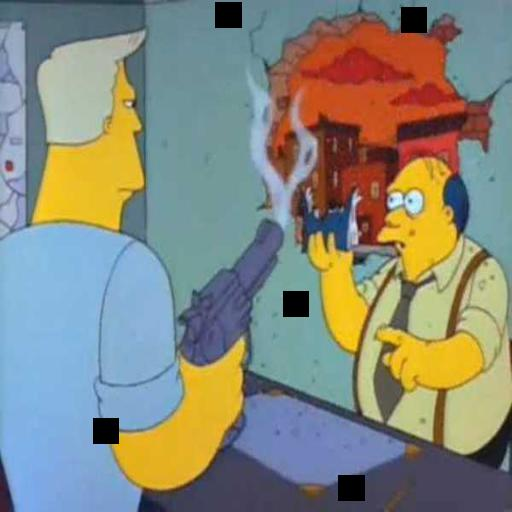Handgun: (164, 219, 292, 455)
